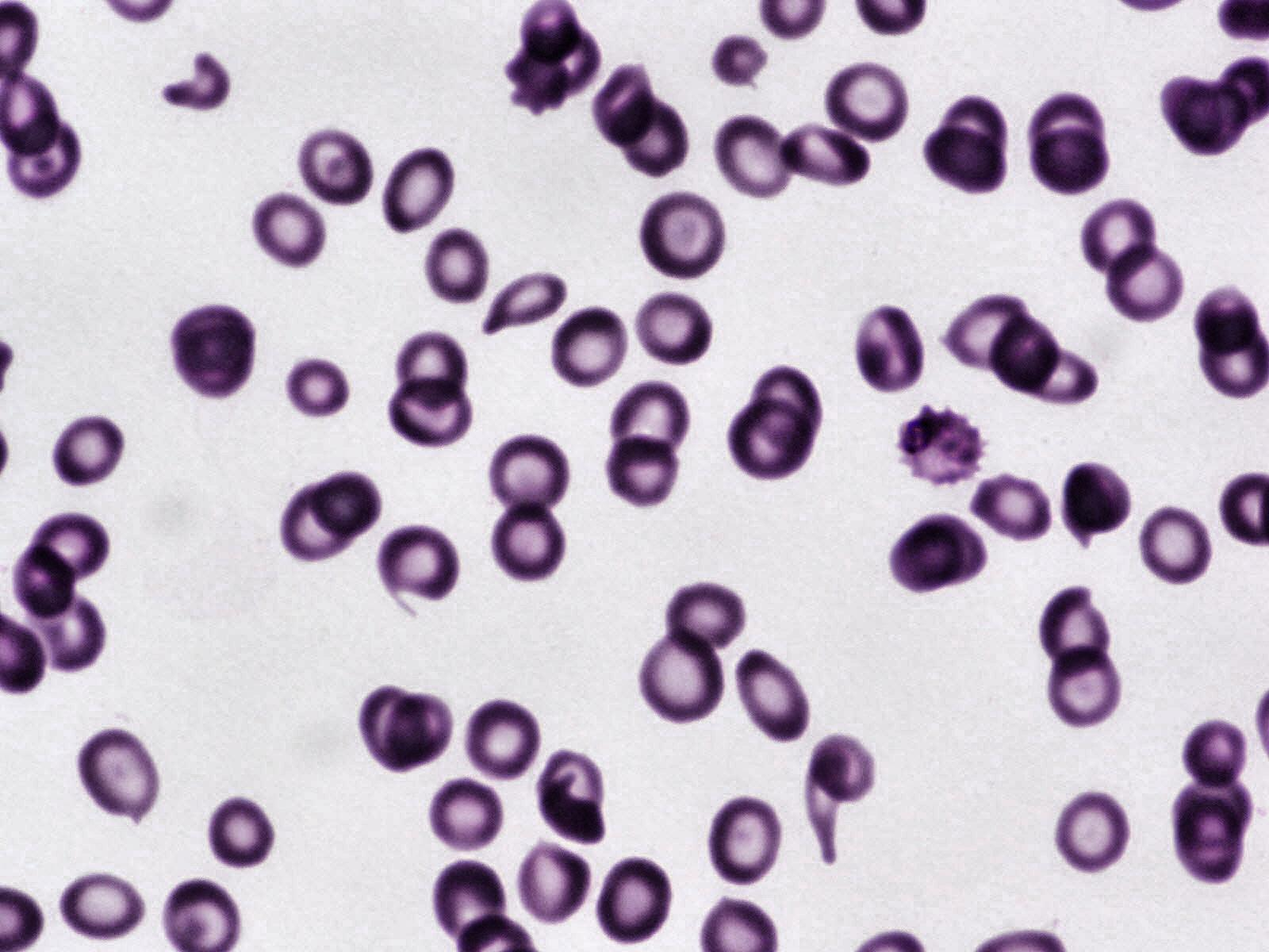Infected: (903, 408, 982, 483)
Uninfected: (637, 619, 726, 727), (638, 187, 729, 284), (1075, 191, 1166, 286), (75, 727, 163, 825), (730, 646, 812, 747), (711, 112, 802, 202), (823, 58, 910, 149), (486, 431, 571, 524), (1101, 232, 1186, 324), (429, 857, 512, 951), (1042, 639, 1128, 728), (708, 797, 788, 892), (376, 521, 462, 609), (723, 395, 809, 483), (606, 378, 691, 466), (25, 588, 113, 672), (289, 125, 378, 208), (549, 302, 631, 392), (594, 854, 673, 947), (47, 866, 148, 938), (1135, 504, 1220, 589), (947, 290, 1035, 372), (276, 484, 368, 562), (1052, 788, 1132, 877), (1159, 75, 1248, 155), (379, 144, 456, 236), (462, 697, 542, 785), (514, 837, 592, 927), (355, 683, 435, 770), (1037, 589, 1111, 682), (747, 365, 825, 453), (611, 96, 692, 180), (844, 308, 922, 395), (774, 116, 869, 187), (926, 123, 1010, 202), (664, 582, 746, 662), (968, 468, 1052, 546), (1171, 769, 1255, 847), (252, 188, 328, 273), (519, 20, 604, 96), (537, 753, 608, 843), (633, 290, 713, 369), (488, 501, 564, 584), (24, 511, 109, 585), (473, 269, 565, 337), (428, 773, 505, 854), (7, 113, 82, 196), (390, 375, 473, 450), (1171, 796, 1244, 881), (420, 225, 493, 308), (393, 332, 471, 409), (169, 304, 254, 374), (148, 45, 236, 112), (1029, 92, 1102, 171), (905, 517, 991, 584), (608, 436, 689, 507), (52, 414, 125, 492), (1031, 125, 1112, 195), (178, 326, 255, 397), (987, 317, 1060, 390), (1008, 344, 1098, 403), (942, 96, 1006, 178), (208, 797, 276, 874), (381, 694, 454, 765), (502, 36, 569, 113), (1064, 463, 1129, 542), (807, 735, 872, 812), (309, 470, 382, 536), (1183, 722, 1257, 787), (593, 62, 651, 144), (891, 524, 960, 591), (11, 549, 75, 619), (1198, 286, 1258, 355), (284, 357, 354, 416), (707, 34, 770, 90)
